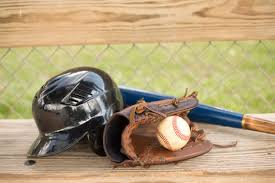baseball bat: (103, 76, 275, 136)
